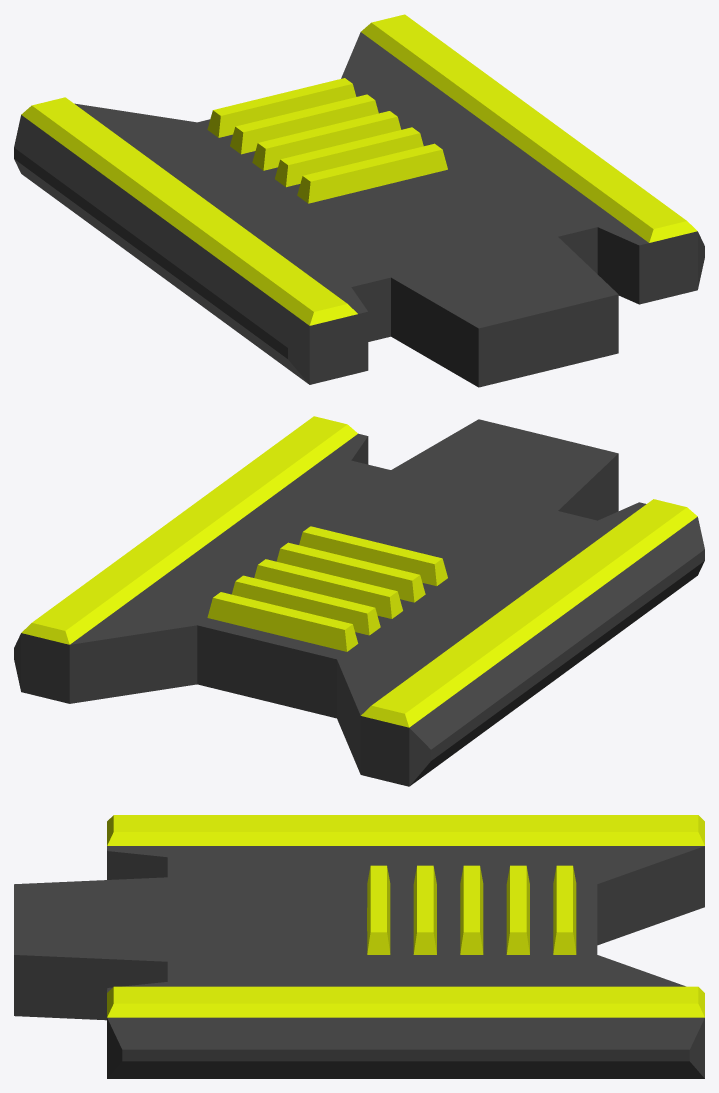
The model's file is ShipYellow.FBX.
3 renders of one model, top to bottom at view 1: azimuth 30°, elevation 25°; view 2: azimuth 150°, elevation 25°; view 3: azimuth 270°, elevation 25°, orthographic. The views are drawn at different scales.
Parts seen in each view (by area): view 1: Box003; view 2: Box003; view 3: Box003.
Boxes of the visible parts, box(x1,y1,x2,y2) form: Box003: box(14, 14, 704, 387); Box003: box(14, 416, 704, 786); Box003: box(14, 815, 704, 1078).
Size of the model in its own units: 32.89 by 5.95 by 45.54.
